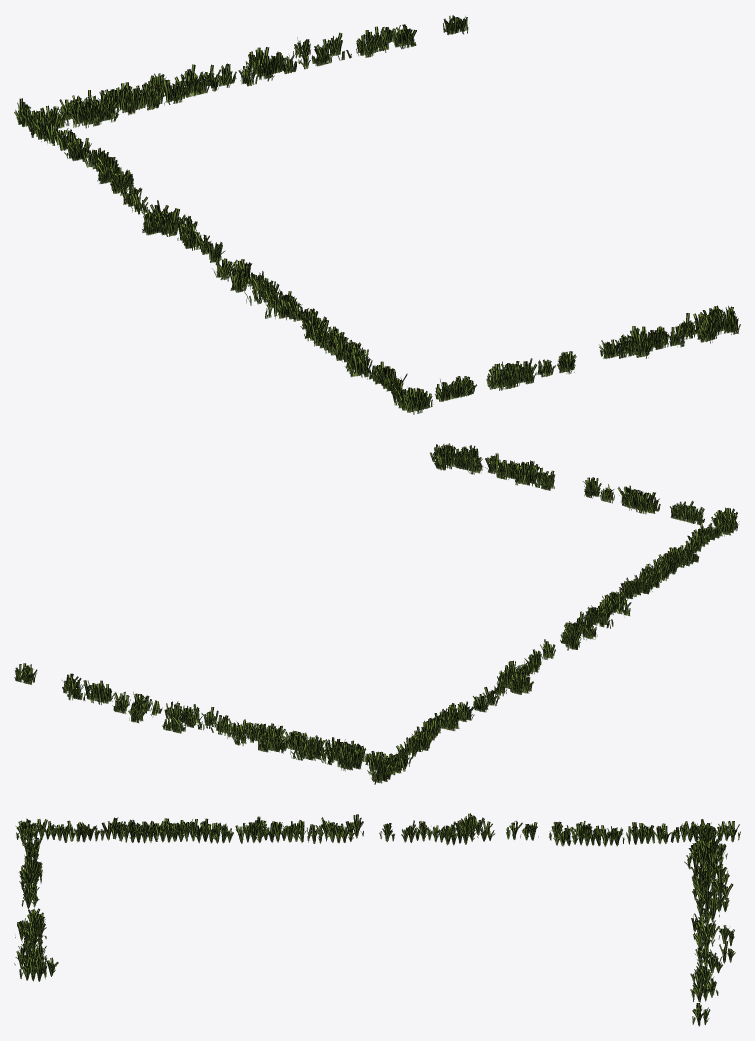
File: BORDER_GRASS_DECK.FBX
The picture shows the model from 3 angles, top to bottom: view 1: azimuth 30°, elevation 25°; view 2: azimuth 150°, elevation 25°; view 3: azimuth 270°, elevation 25°; orthographic projection. The views are drawn at different scales.
Parts seen in each view (by area): view 1: BORDER_GRASS_DECK; view 2: BORDER_GRASS_DECK; view 3: BORDER_GRASS_DECK.
Boxes of the visible parts, left/top/right/bottom form: BORDER_GRASS_DECK: left=14, top=15, right=740, bottom=414; BORDER_GRASS_DECK: left=14, top=443, right=739, bottom=784; BORDER_GRASS_DECK: left=14, top=813, right=740, bottom=1026.
Bounding box in the file's own units: 755 × 34.54 × 1165.
